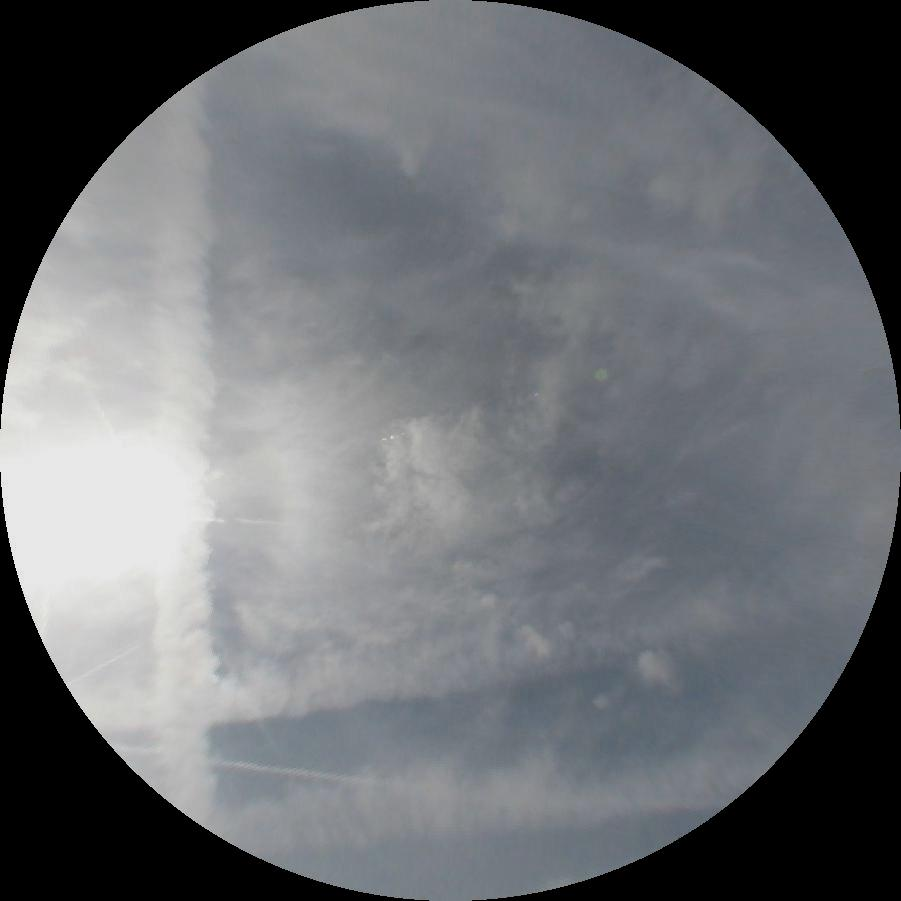contrail old: (111, 742, 728, 822)
contrail veryold: (77, 538, 901, 772), (206, 718, 799, 860), (144, 79, 223, 829)
contrail young: (65, 643, 142, 686)
parasite: (192, 517, 291, 527)
